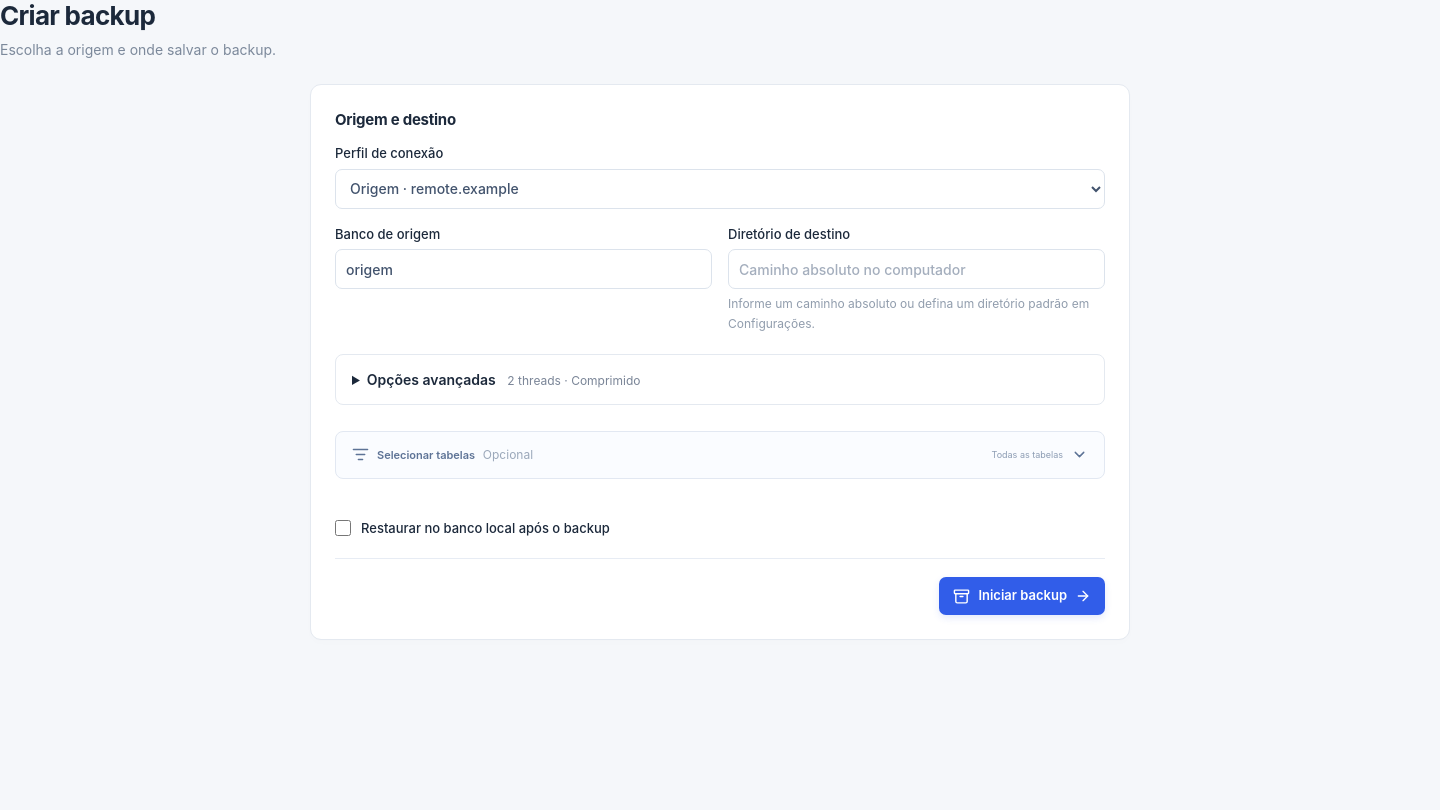
Test case: backup com restauração automática › exige confirmação do destino e envia as duas etapas em uma requisição para origem
Click the checkbox labelled "Restaurar no banco local após o backup": coordinates (343, 528) top-left (335, 520), bottom-right (351, 536)
(page scrolled)
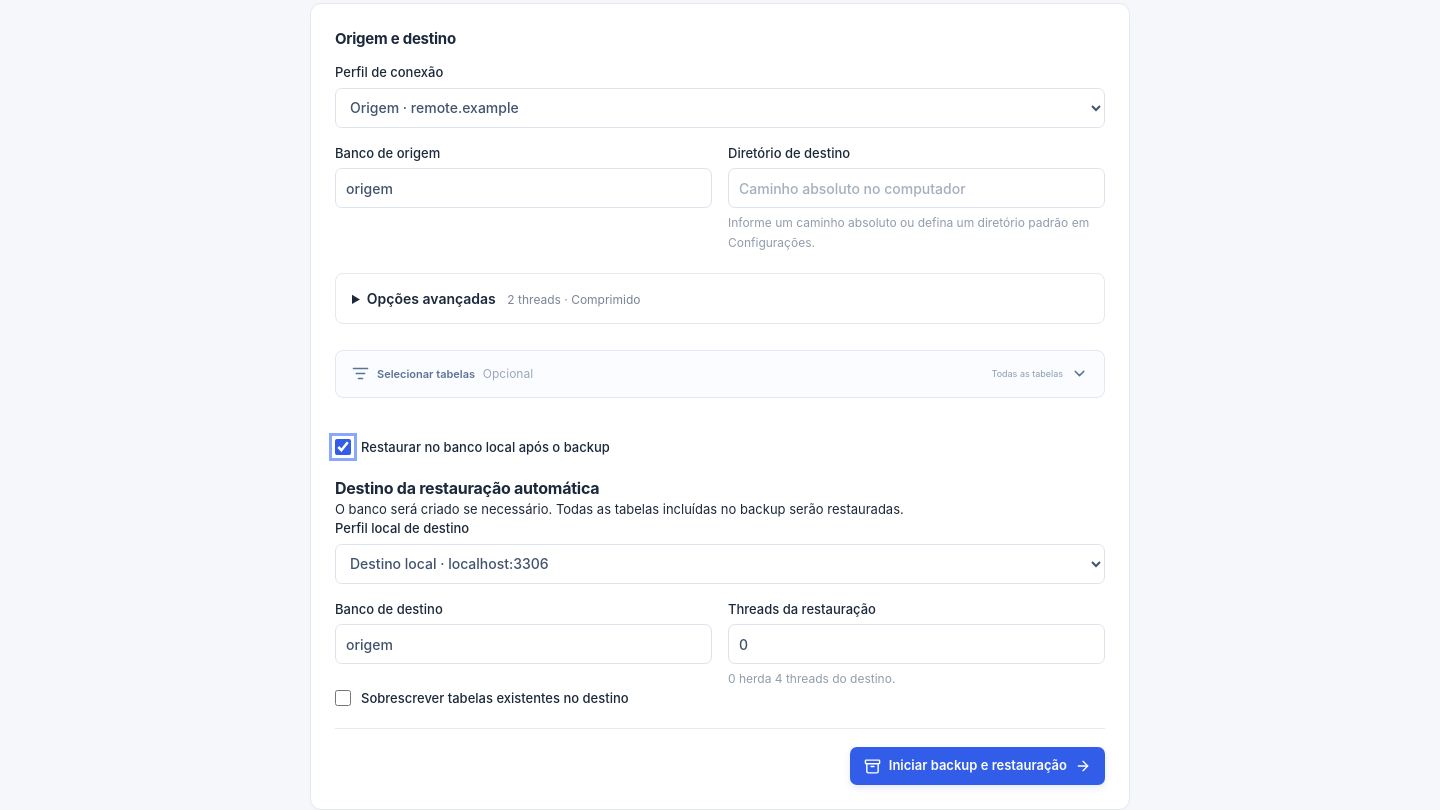
Now the field labelled "Banco de destino" holds "origem", box top-left (335, 624), bottom-right (712, 664)
Click the button "Iniciar backup e restauração": coordinates (977, 766) top-left (850, 748), bottom-right (1105, 785)
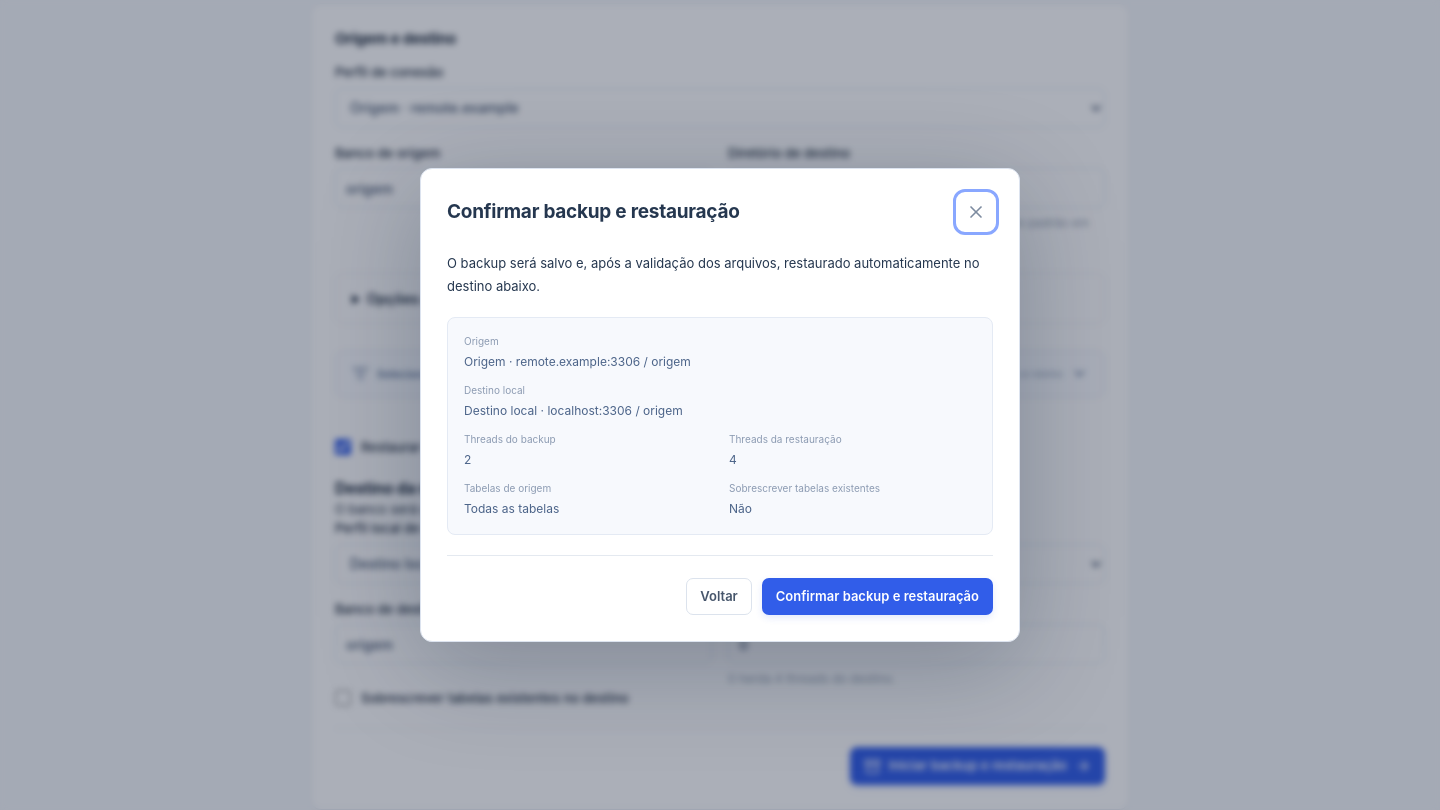
Click the button "Confirmar backup e restauração": coordinates (877, 596) top-left (762, 578), bottom-right (993, 615)
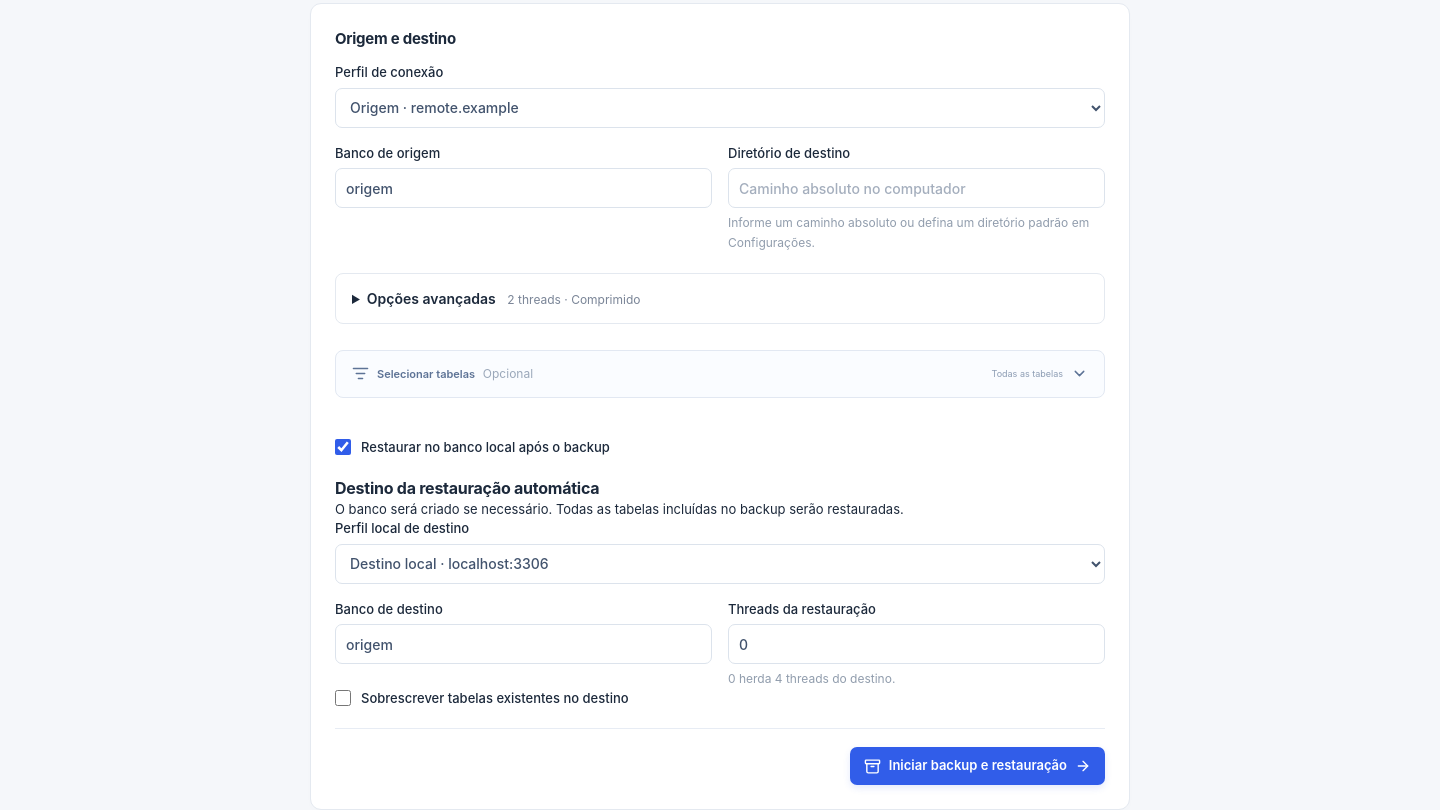
Now the dialog is gone
